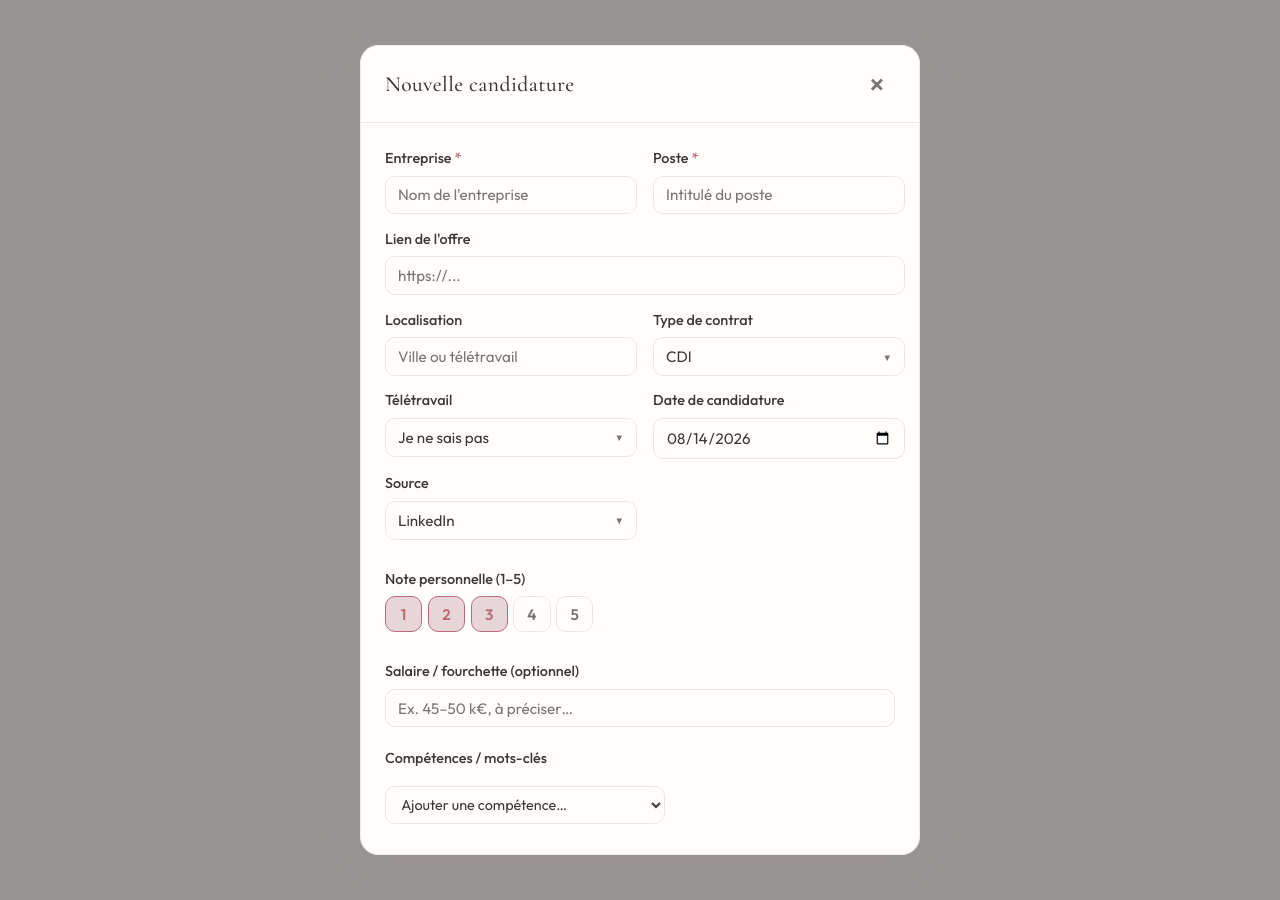
Scenario: AddCandidatureModal › auto-detects source from link and locks source field in add mode
Type "https://www.linkedin.com/jobs/view/123" into the field with placeholder "https://...".
click(645, 276); type("https://www.linkedin.com/jobs/view/123")  # box left=385, top=256, right=905, bottom=295
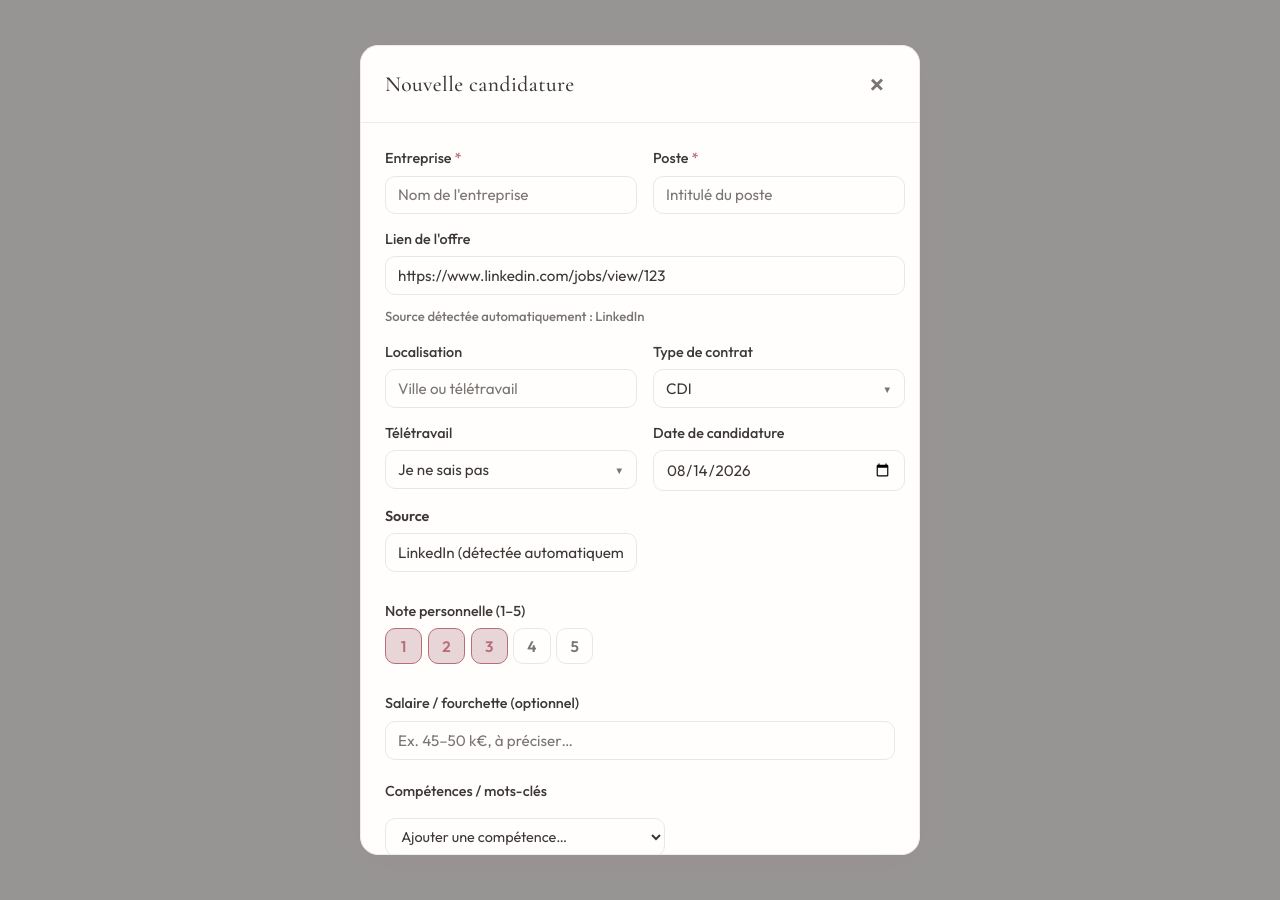
Result: the text "Source détectée automatiquement : LinkedIn" is shown at left=385, top=308, right=644, bottom=324
Result: the field named "Source détectée automatiquement" is shown at left=385, top=533, right=637, bottom=572
